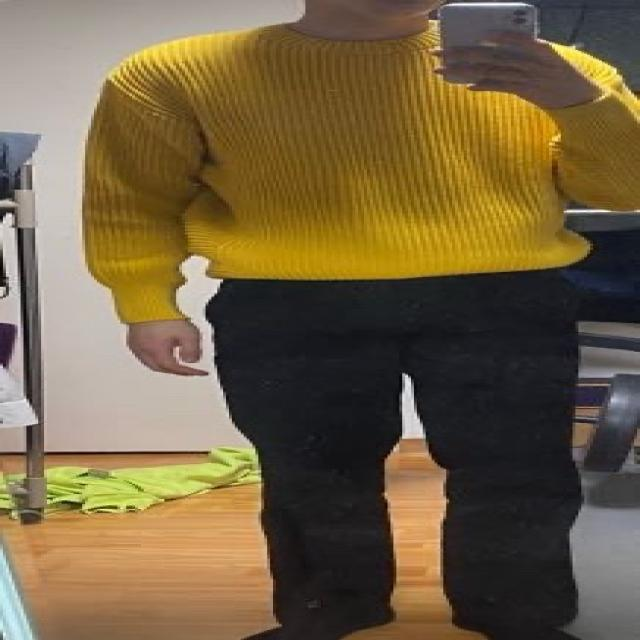slacks: (215, 266, 588, 636)
sweater: (83, 15, 637, 327)
